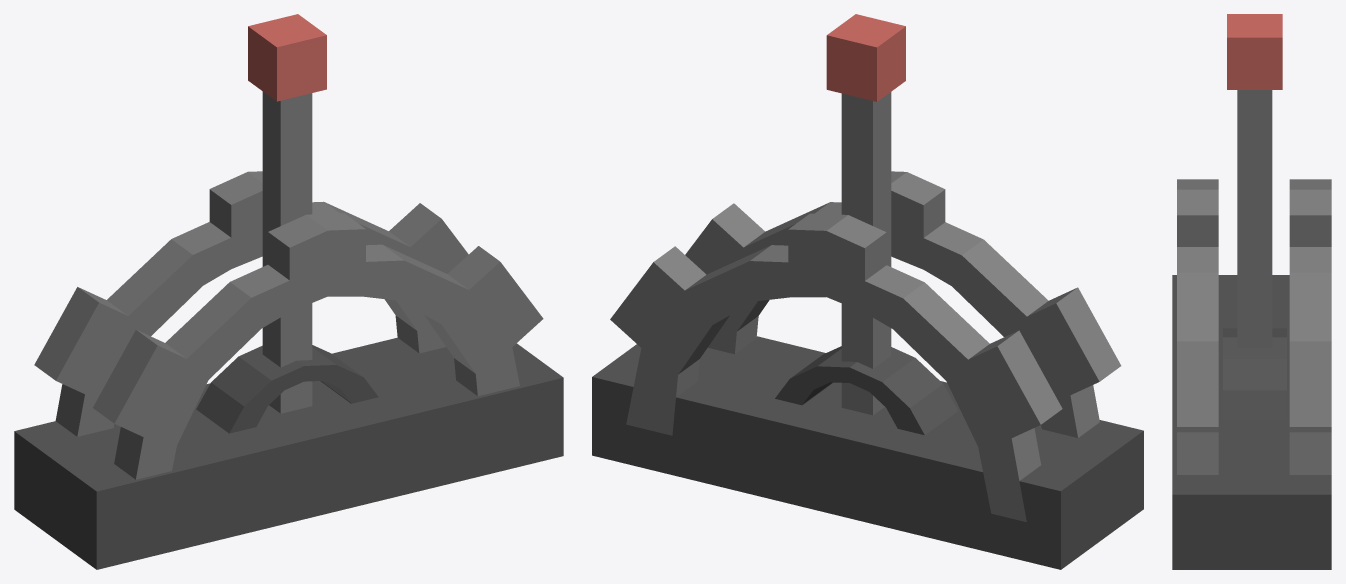
The model's file is switch.fbx.
3 views of the same model, side by side, from view 1: azimuth 30°, elevation 25°; view 2: azimuth 150°, elevation 25°; view 3: azimuth 270°, elevation 25° (orthographic). The views are drawn at different scales.
Parts seen in each view (by area): view 1: Plane; view 2: Plane; view 3: Plane.
Part boxes in pixels (x1,y1,x2,y2): Plane: (14,14,563,569); Plane: (592,14,1143,569); Plane: (1172,14,1331,569).
Size of the model in its own units: 2.34 by 2.16 by 0.7168.
